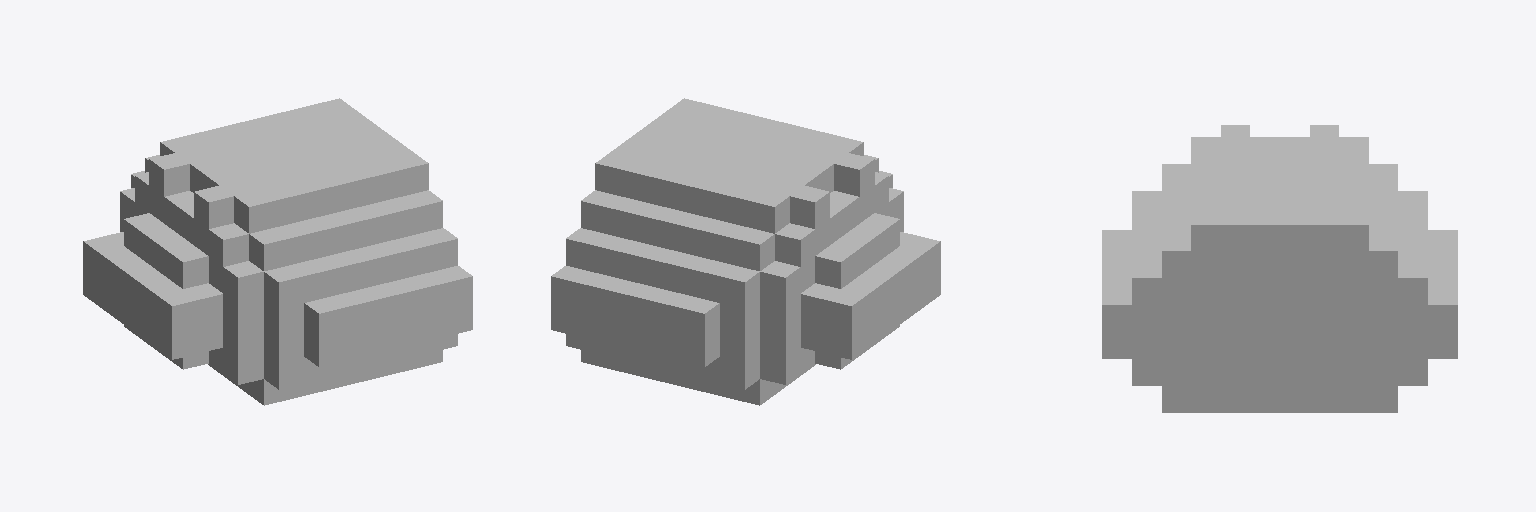
File: SnakeHead.obj
The picture shows the model from 3 angles: view 1: azimuth 30°, elevation 25°; view 2: azimuth 150°, elevation 25°; view 3: azimuth 270°, elevation 25°; orthographic projection.
Visible parts, largest first — view 1: object 1; view 2: object 1; view 3: object 1.
Part boxes in pixels (bbox=[...]): object 1: bbox=[83, 98, 472, 405]; object 1: bbox=[551, 98, 940, 405]; object 1: bbox=[1102, 125, 1457, 412].
Bounding box in the file's own units: 1 × 0.7 × 1.2.